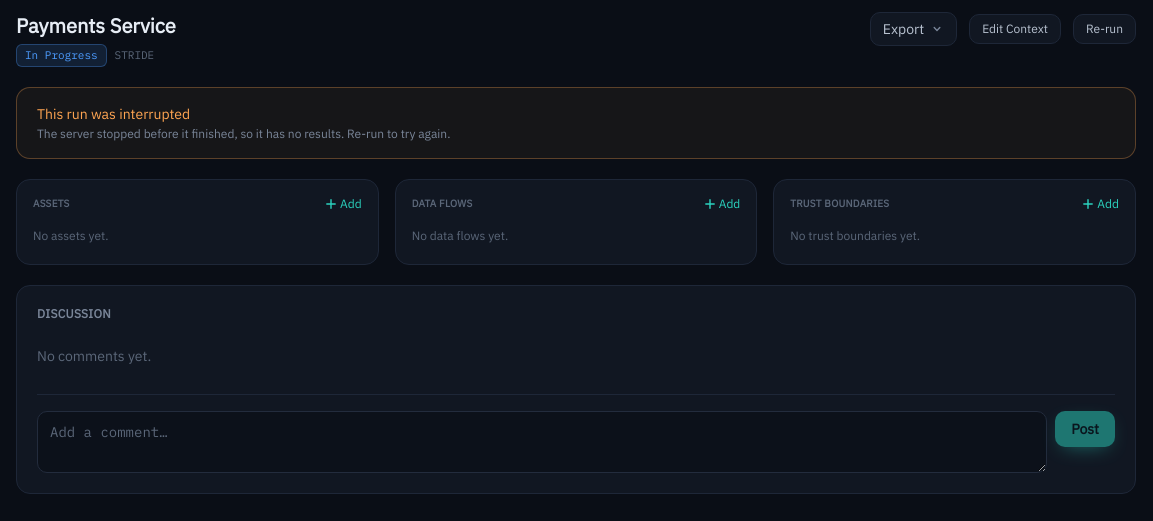
Scenario: Results — opened mid-run › offers Re-run when the server has no run behind an in-progress model
The image size is (1153, 521).
Expected: the text "This run was interrupted" is shown, [37,104,190,122]
Click the button "Re-run". click: (1104, 29)
box: [1073,14,1136,44]
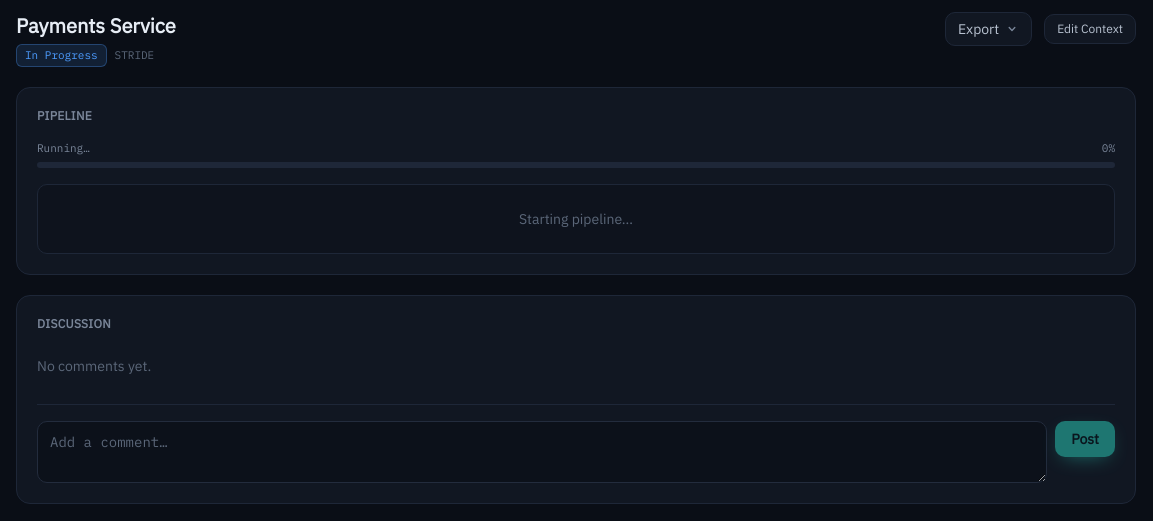
Expected: the text "This run was interrupted" is gone
